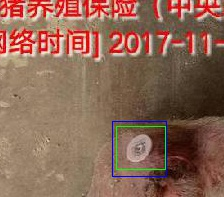text: (116, 126, 165, 169)
